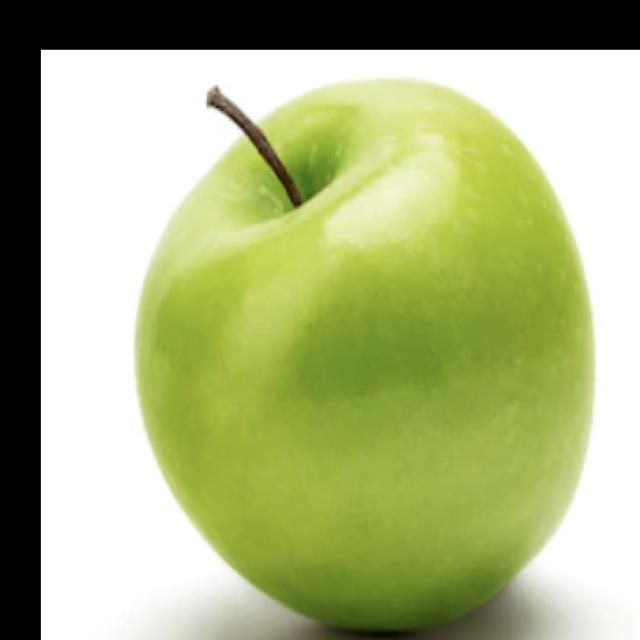Fresh Apple: (138, 68, 593, 640)
